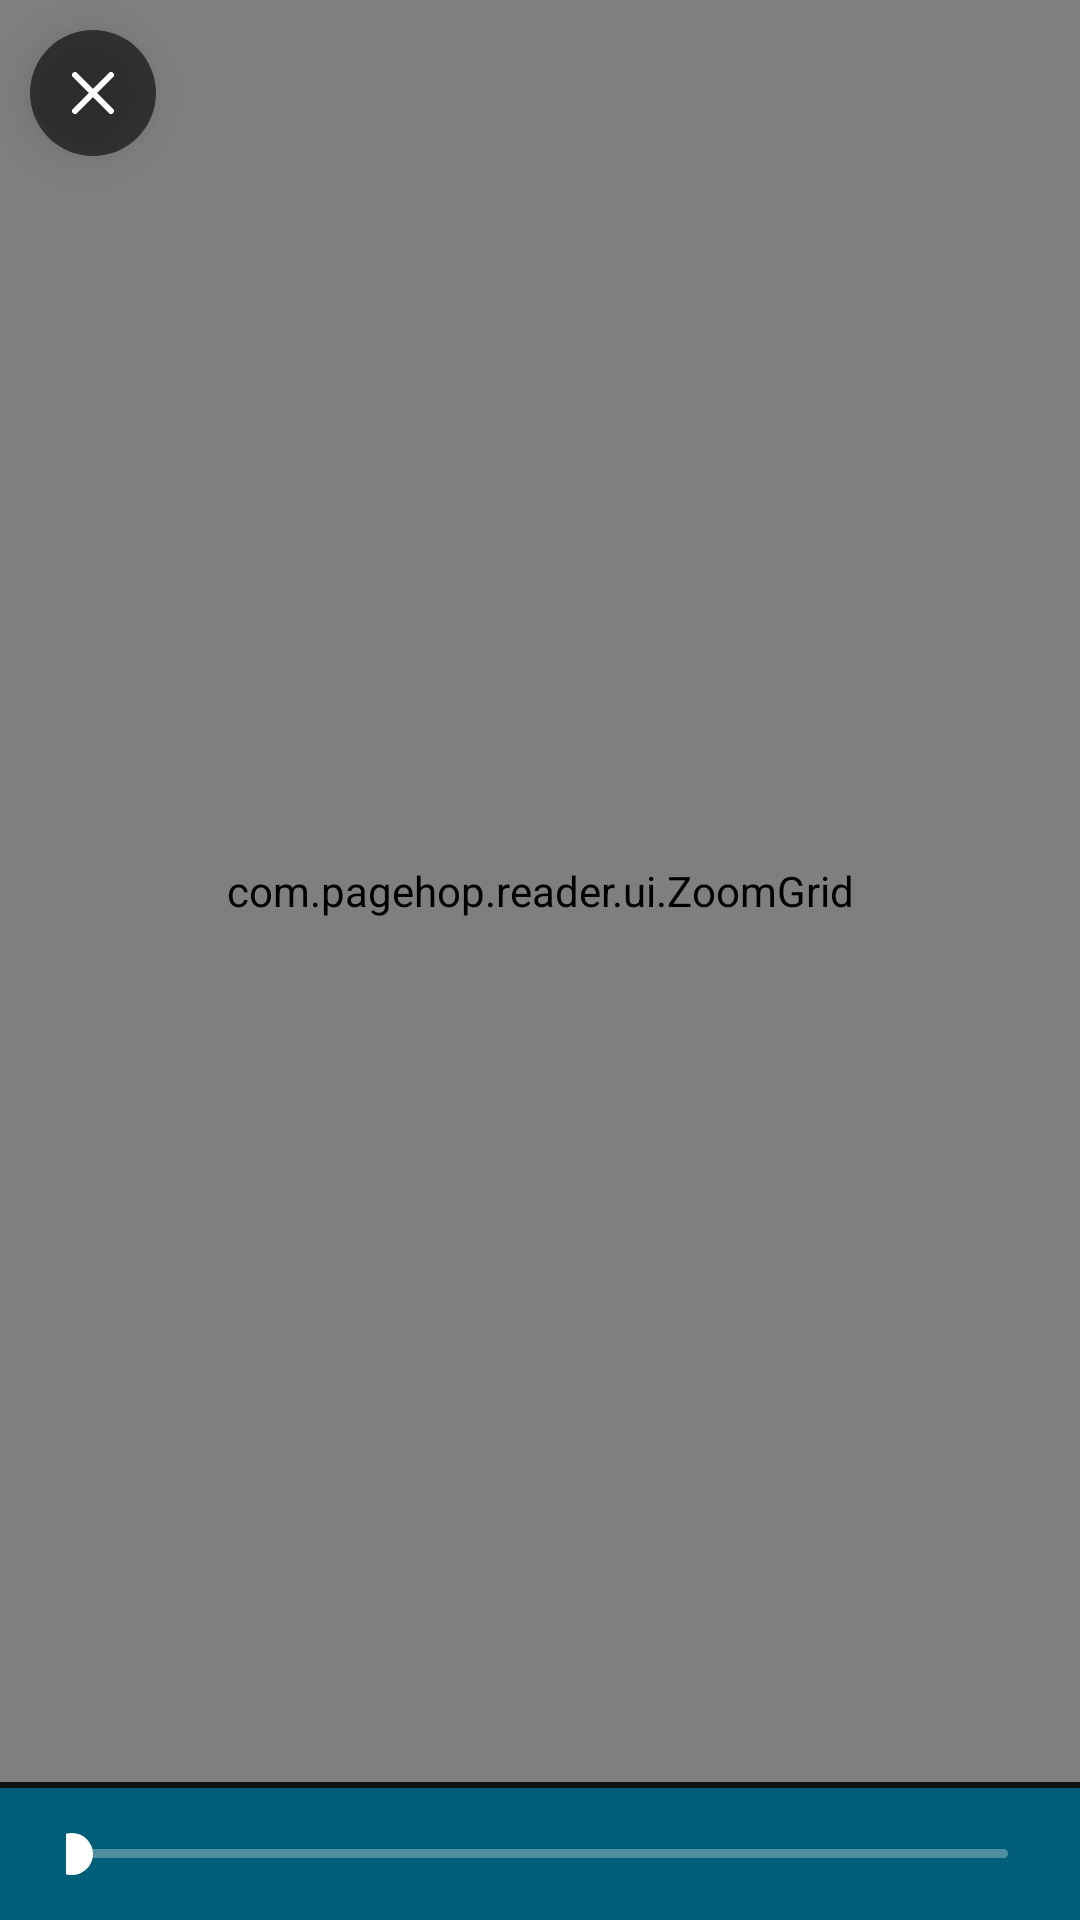

Screen size 1080px×1920px. Icon name, then its center in pixels as point (x, y):
取消: point (93, 93)
